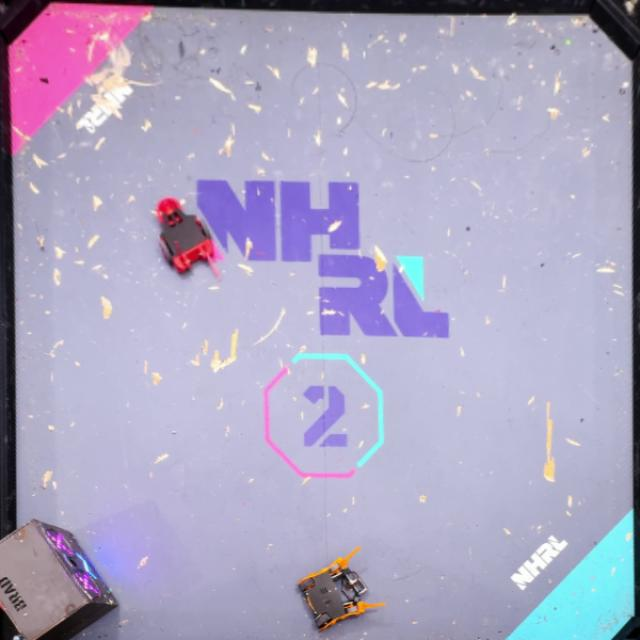housebot: (0, 516, 119, 639)
robot: (296, 544, 384, 632), (157, 198, 221, 280)
